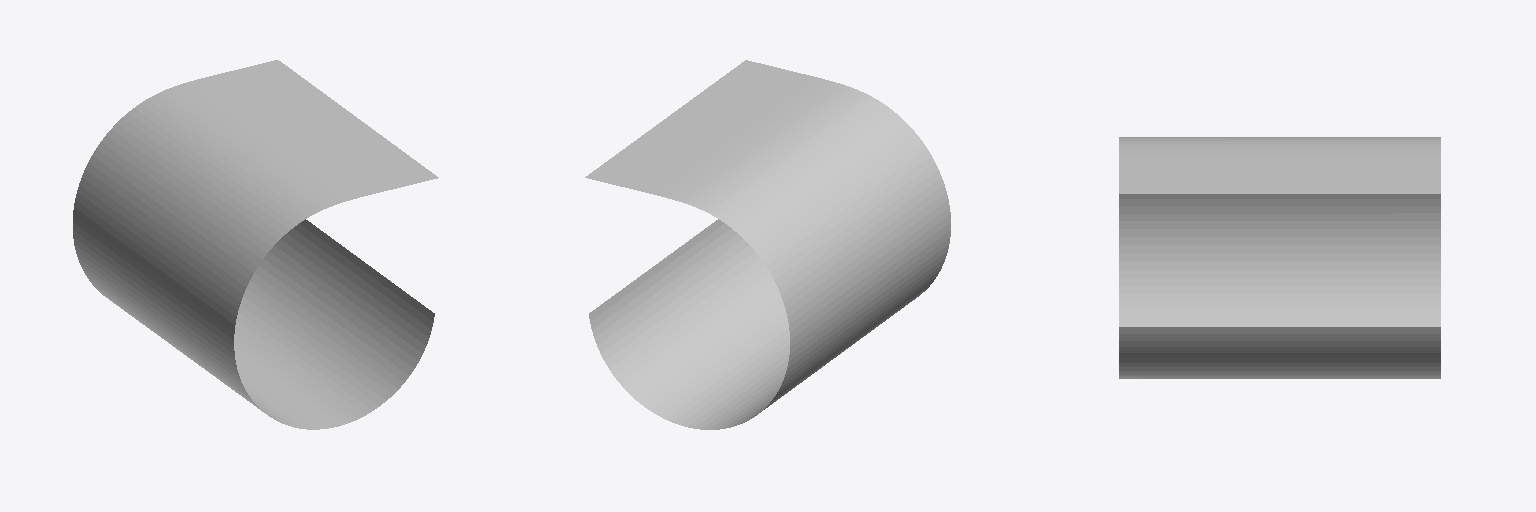
The model's file is CurvePaper_000023.obj.
The picture shows the model from 3 angles: view 1: azimuth 30°, elevation 25°; view 2: azimuth 150°, elevation 25°; view 3: azimuth 270°, elevation 25°; orthographic projection.
Visible parts, largest first — view 1: Plane; view 2: Plane; view 3: Plane.
Part boxes in pixels (x1,y1,x2,y2): Plane: (73,60,438,429); Plane: (585,60,950,429); Plane: (1119,137,1440,378).
Bounding box in the file's own units: 1.66 × 1.74 × 2.26.